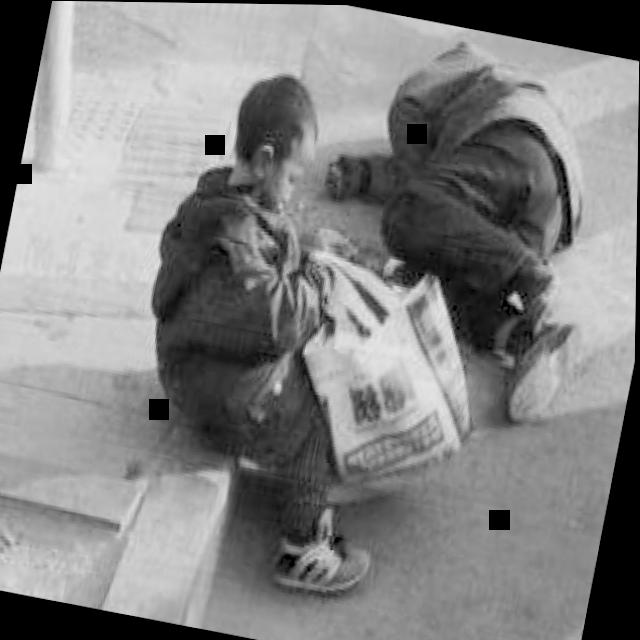Fall-Detected: (287, 5, 640, 435)
